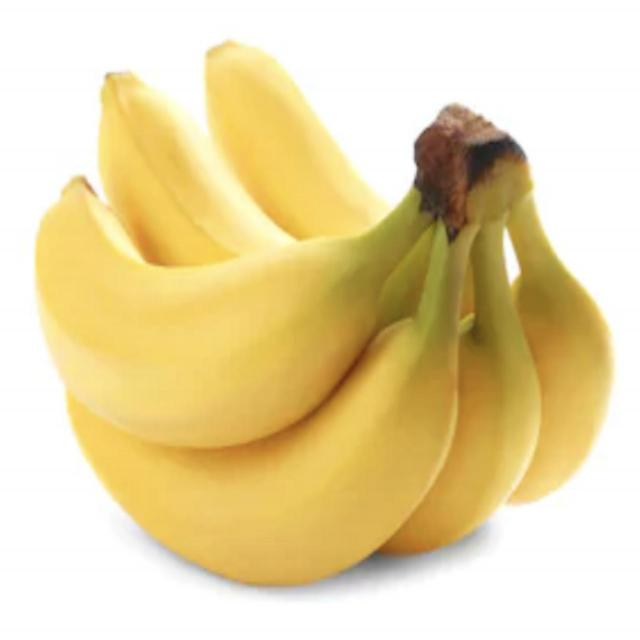banana: (59, 172, 476, 617), (0, 146, 432, 462)
